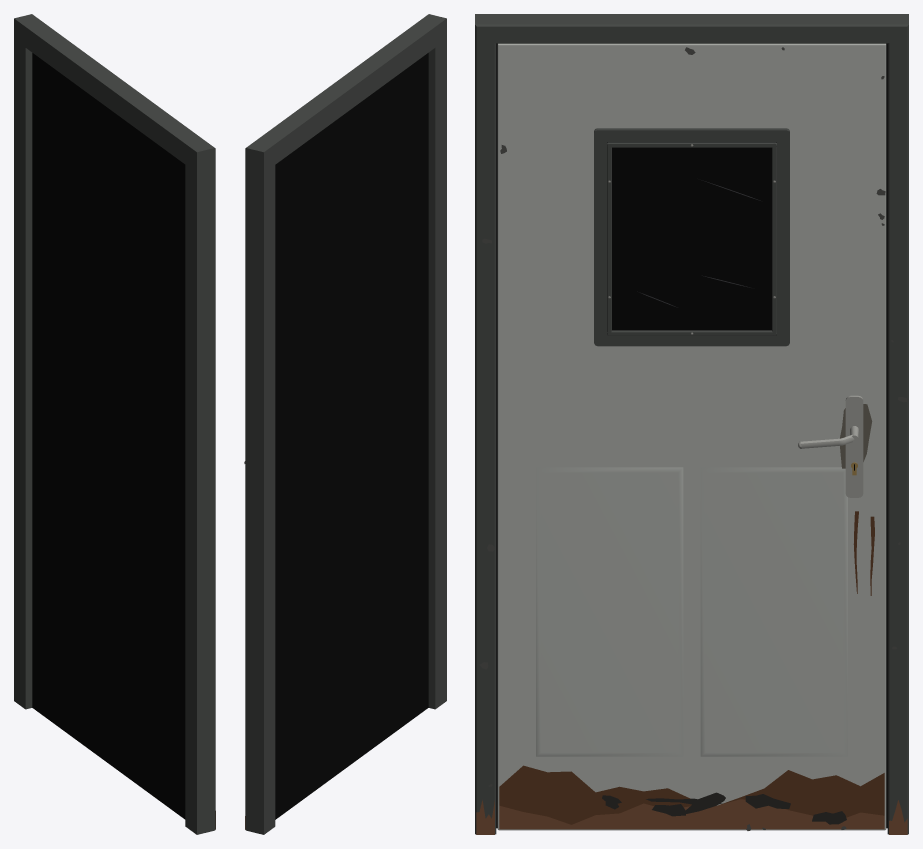
The model's file is door_window.glb.
3 renders of one model, left to right at view 1: azimuth 30°, elevation 25°; view 2: azimuth 150°, elevation 25°; view 3: azimuth 270°, elevation 25°, orthographic. The views are drawn at different scales.
Visible parts, largest first — view 1: tuer_window1, tuer_window0; view 2: tuer_window1, tuer_window0; view 3: tuer_window2, tuer_window0, tuer_window3, tuer_window11, tuer_window10, tuer_window1, tuer_window6, tuer_window12.
Boxes of the visible parts, bbox=[...] form: tuer_window1: bbox=[32, 53, 185, 819]; tuer_window0: bbox=[14, 14, 215, 834]; tuer_window1: bbox=[275, 53, 428, 819]; tuer_window0: bbox=[245, 14, 446, 834]; tuer_window2: bbox=[497, 43, 886, 830]; tuer_window0: bbox=[475, 14, 908, 834]; tuer_window3: bbox=[607, 142, 776, 330]; tuer_window11: bbox=[499, 511, 884, 824]; tuer_window10: bbox=[476, 799, 907, 834]; tuer_window1: bbox=[496, 43, 887, 828]; tuer_window6: bbox=[798, 395, 863, 497]; tuer_window12: bbox=[602, 792, 846, 824].
Bounding box in the file's own units: 0.1305 × 2.1 × 1.02.
